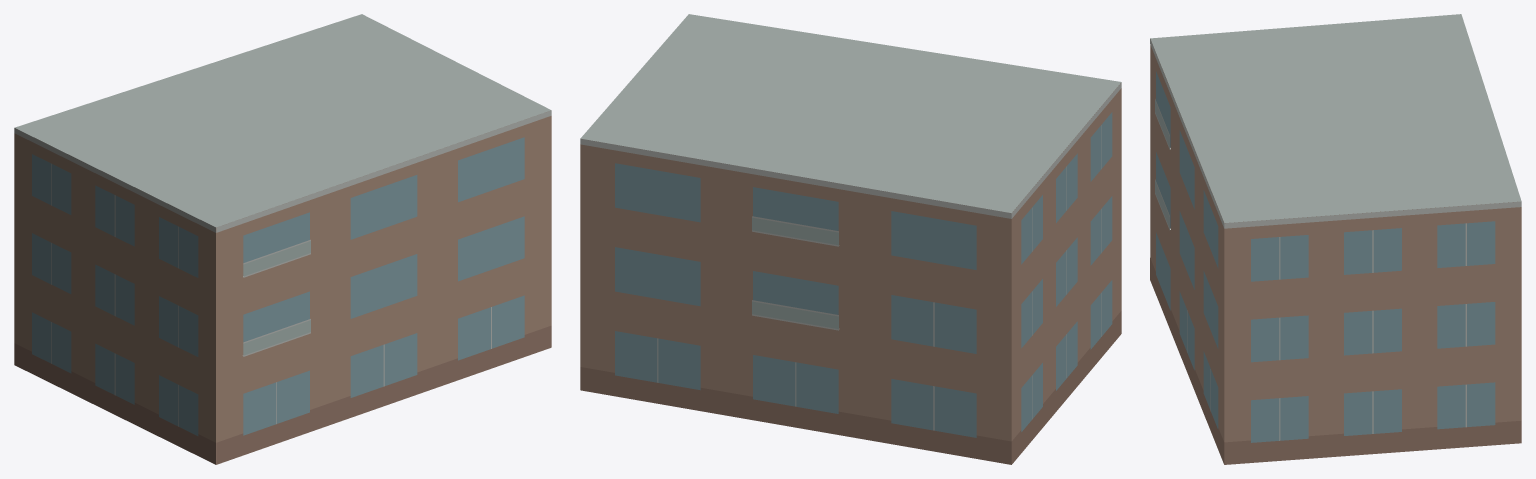
File: survey-upis-32760592.glb
3 renders of one model, left to right at view 1: azimuth 30°, elevation 25°; view 2: azimuth 150°, elevation 25°; view 3: azimuth 270°, elevation 25°, orthographic. The views are drawn at different scales.
Parts seen in each view (by area): view 1: survey-upis-32760592.tmp; view 2: survey-upis-32760592.tmp; view 3: survey-upis-32760592.tmp.
Boxes of the visible parts, x1,y1,x2,y2 form: survey-upis-32760592.tmp: [14, 14, 551, 464]; survey-upis-32760592.tmp: [580, 14, 1121, 464]; survey-upis-32760592.tmp: [1150, 14, 1521, 464].
Size of the model in its own units: 19.68 by 10.6 by 14.77.
